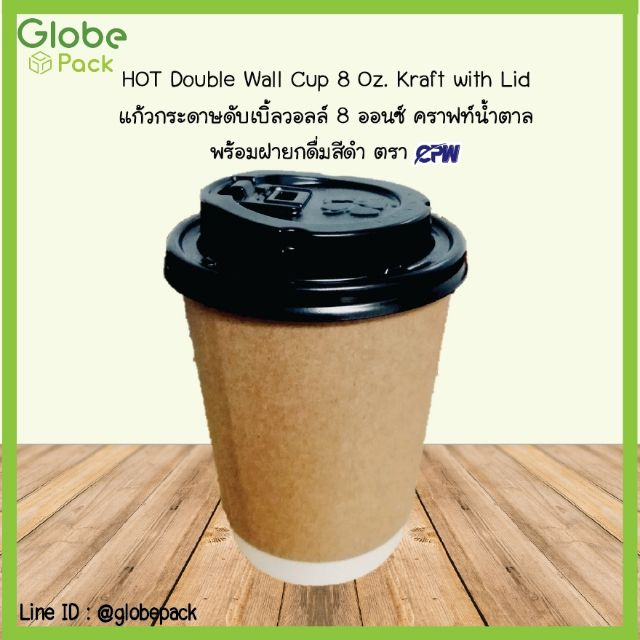PaperCup: (162, 168, 471, 591)
